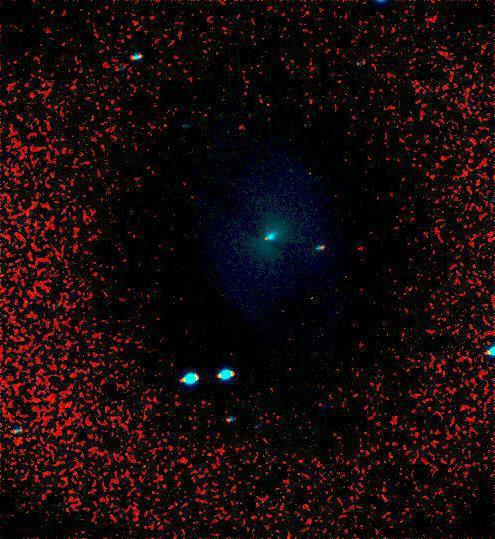star: (251, 223, 281, 253)
